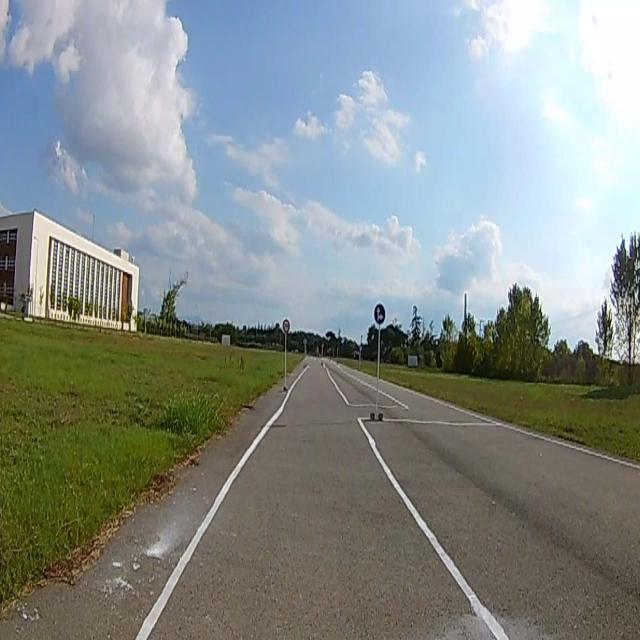ilerisag: (374, 303, 385, 325)
